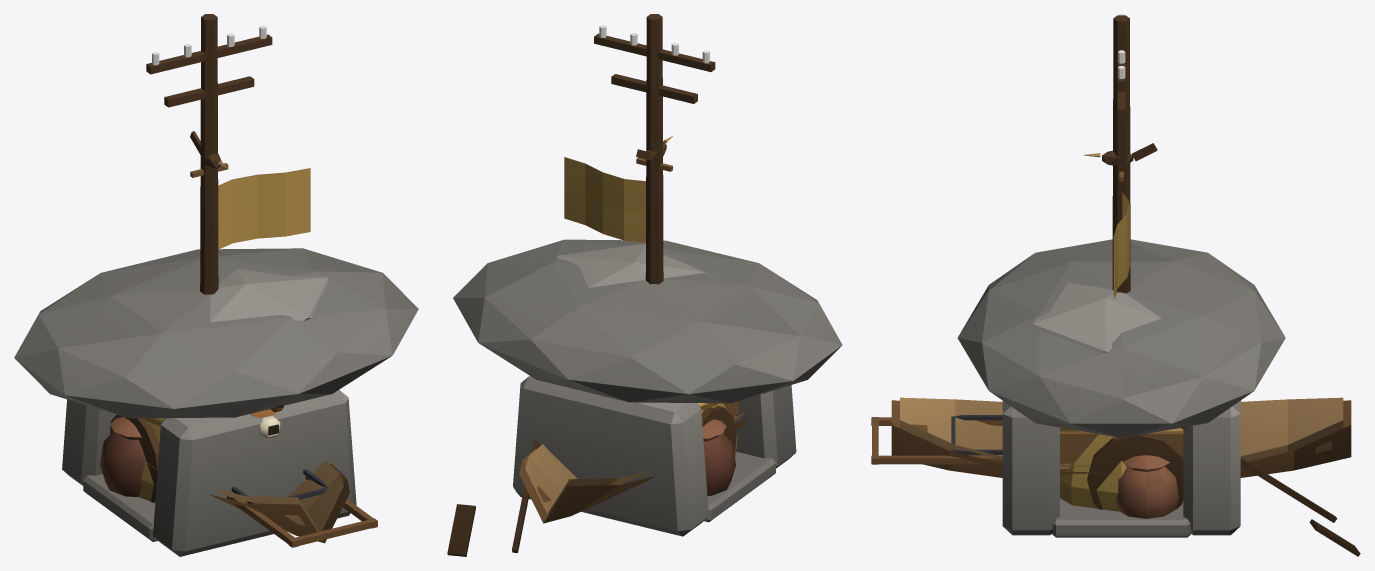
File: props.glb
3 renders of one model, left to right at view 1: azimuth 30°, elevation 25°; view 2: azimuth 150°, elevation 25°; view 3: azimuth 270°, elevation 25°, orthographic. The views are drawn at different scales.
Parts seen in each view (by area): view 1: dolmen, power_pole, flag, jangdok, boat, cart, straw_stack, ox, sotdae; view 2: dolmen, power_pole, boat, flag, jangdok, cart; view 3: dolmen, boat, jangdok, cart, power_pole, straw_stack, flag, handcart, sotdae.
Boxes of the visible parts, x1=… form: dolmen: x1=14, y1=248, x2=418, y2=556; power_pole: x1=146, y1=14, x2=272, y2=294; flag: x1=218, y1=168, x2=310, y2=249; jangdok: x1=83, y1=417, x2=157, y2=541; boat: x1=110, y1=433, x2=349, y2=543; cart: x1=110, y1=414, x2=377, y2=547; straw_stack: x1=139, y1=418, x2=164, y2=502; ox: x1=251, y1=409, x2=280, y2=440; sotdae: x1=190, y1=131, x2=228, y2=177; dolmen: x1=453, y1=239, x2=842, y2=536; power_pole: x1=594, y1=14, x2=715, y2=284; boat: x1=447, y1=412, x2=749, y2=556; flag: x1=564, y1=157, x2=645, y2=242; jangdok: x1=702, y1=419, x2=775, y2=522; cart: x1=701, y1=401, x2=738, y2=453; dolmen: x1=957, y1=239, x2=1285, y2=535; boat: x1=891, y1=397, x2=1360, y2=556; jangdok: x1=1052, y1=455, x2=1191, y2=537; cart: x1=871, y1=417, x2=1183, y2=509; power_pole: x1=1112, y1=14, x2=1130, y2=293; straw_stack: x1=1060, y1=427, x2=1183, y2=511; flag: x1=1113, y1=193, x2=1130, y2=299; handcart: x1=951, y1=415, x2=1002, y2=454; sotdae: x1=1084, y1=143, x2=1157, y2=181.
Size of the model in its own units: 4.95 by 6.62 by 5.96.
